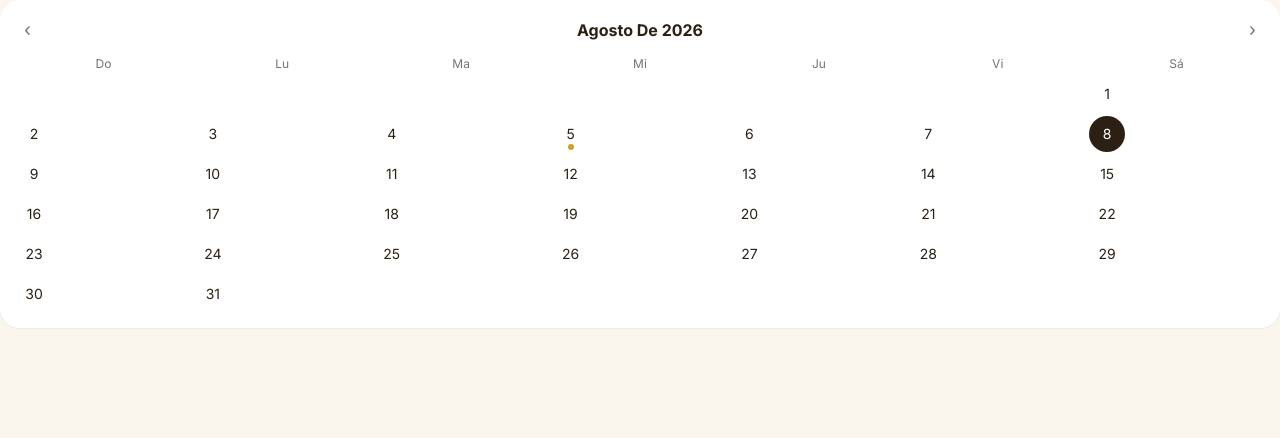
MonthCalendar › al hacer clic en un día marcado muestra "Marcado"
Click the button "5" at (571, 134), box 553,116 -> 589,152
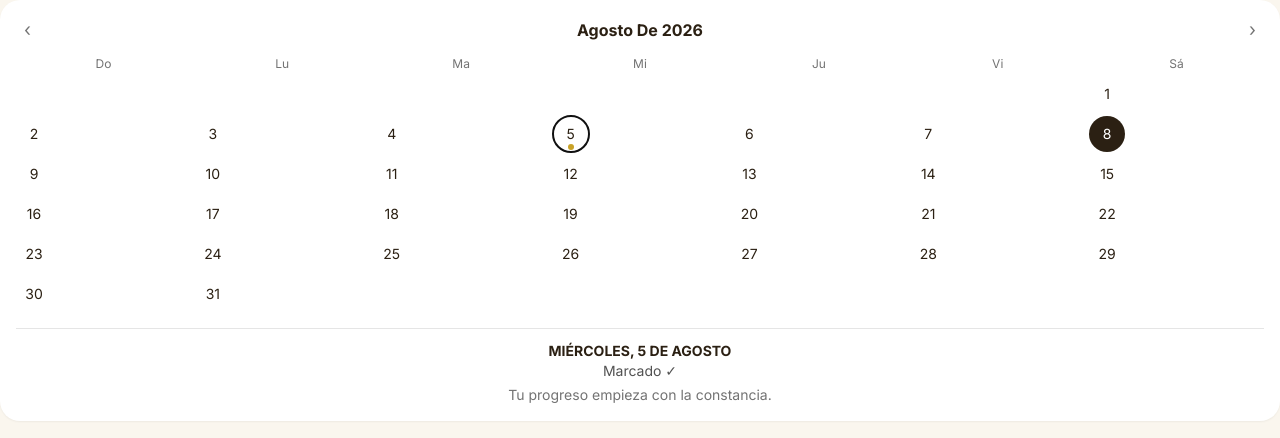
Expected: the text "Marcado ✓" is shown, 603,362 -> 677,379
